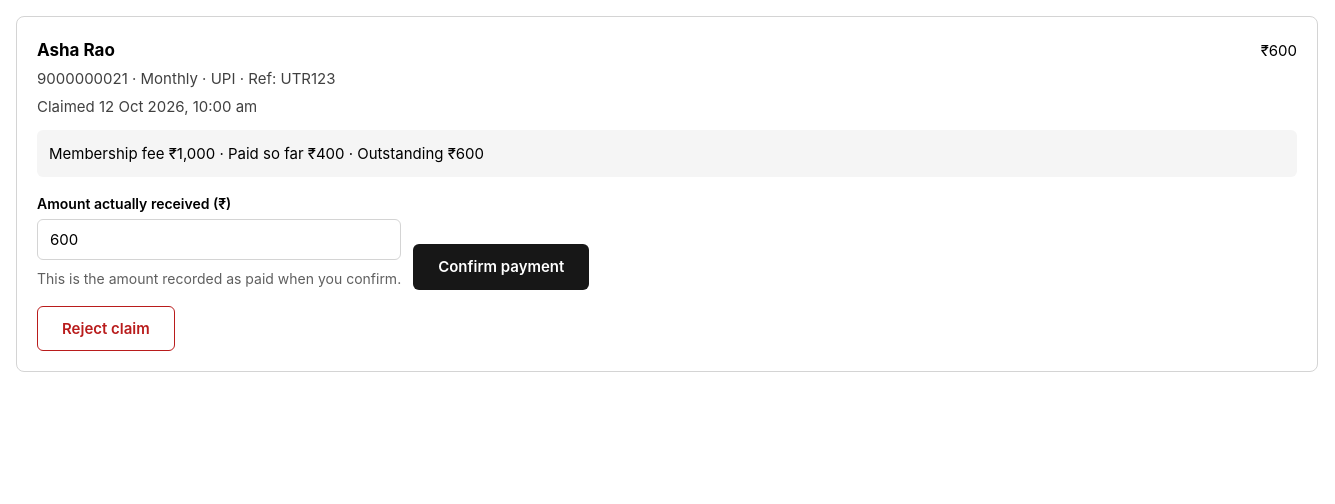
ClaimsManager › requires the second step to reject, and Cancel disarms it
This screenshot has width=1335, height=504.
Expected: the text "Confirm rejection" is not shown
Click the button "Reject claim" at (106, 328), box 37,306 -> 175,351
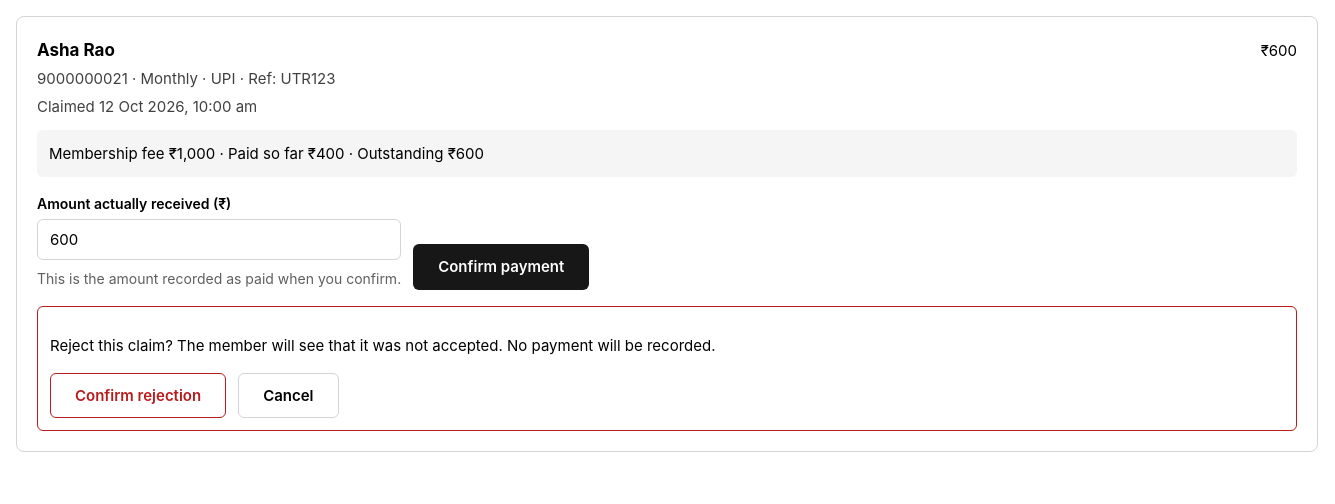
Result: the text "No payment will be recorded." is shown at 50,336 -> 716,355
Click the button "Cancel" at (288, 396), box 238,373 -> 339,418
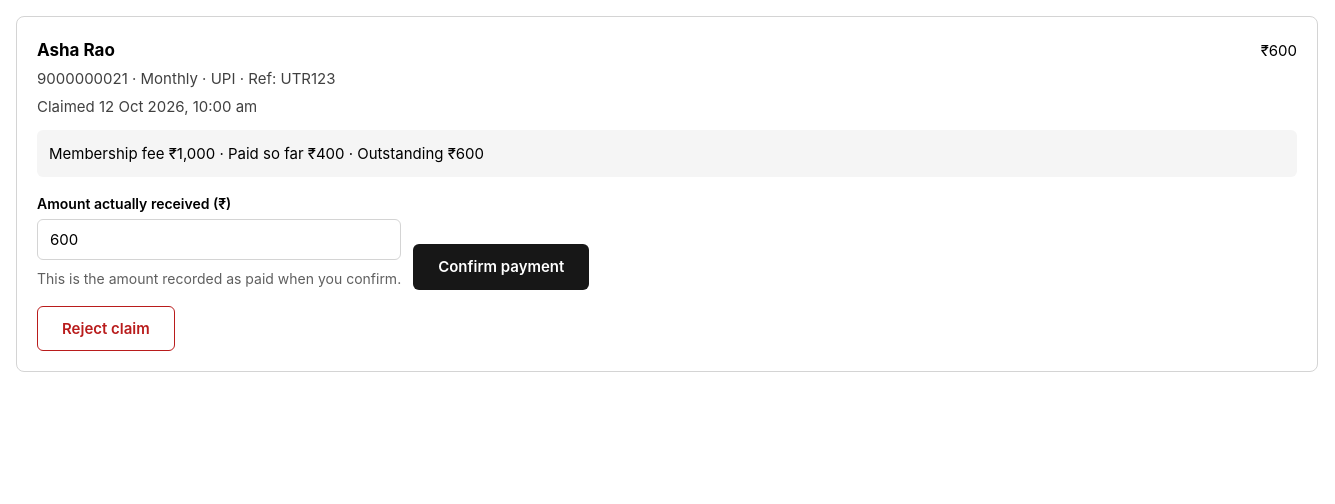
Result: the text "Confirm rejection" is gone
Click the button "Reject claim" at (106, 328), box 37,306 -> 175,351
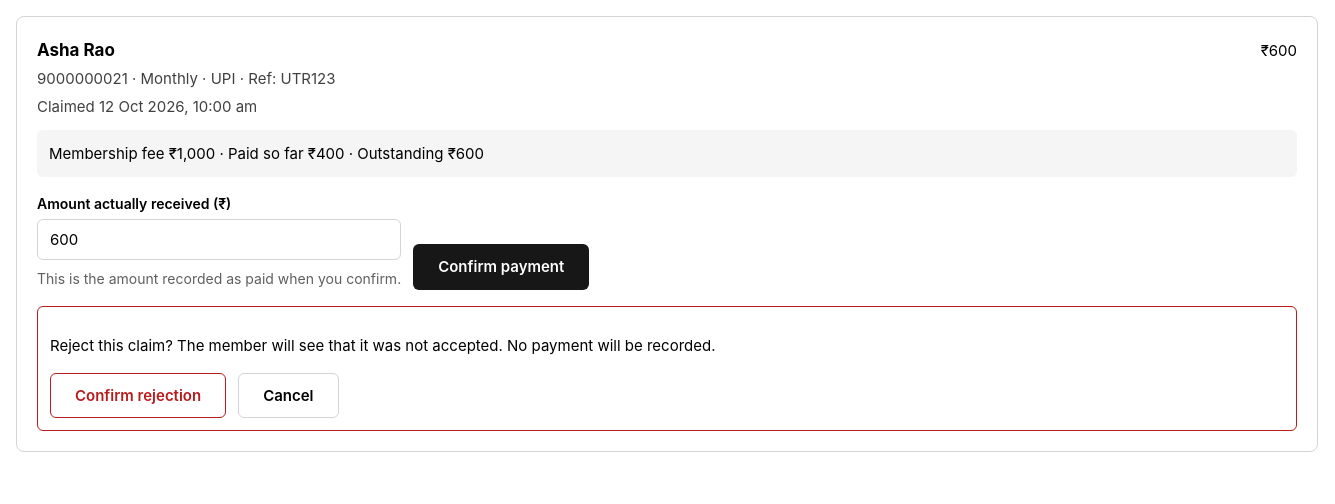
Submit the form "Confirm rejection", box 50,373 -> 226,418
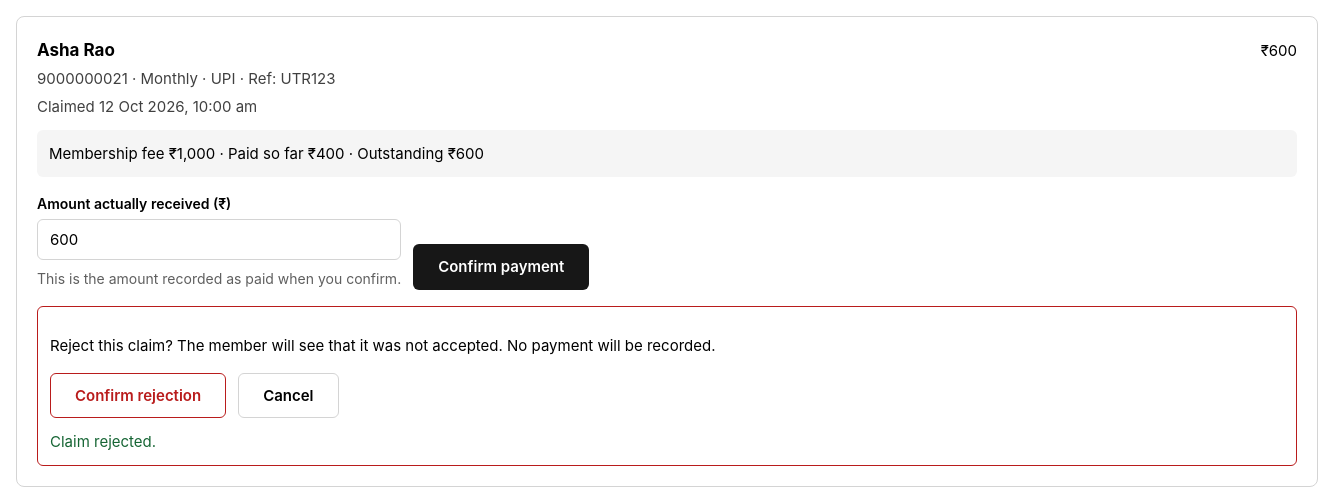
Result: the text "Claim rejected." is shown at 50,432 -> 156,451
